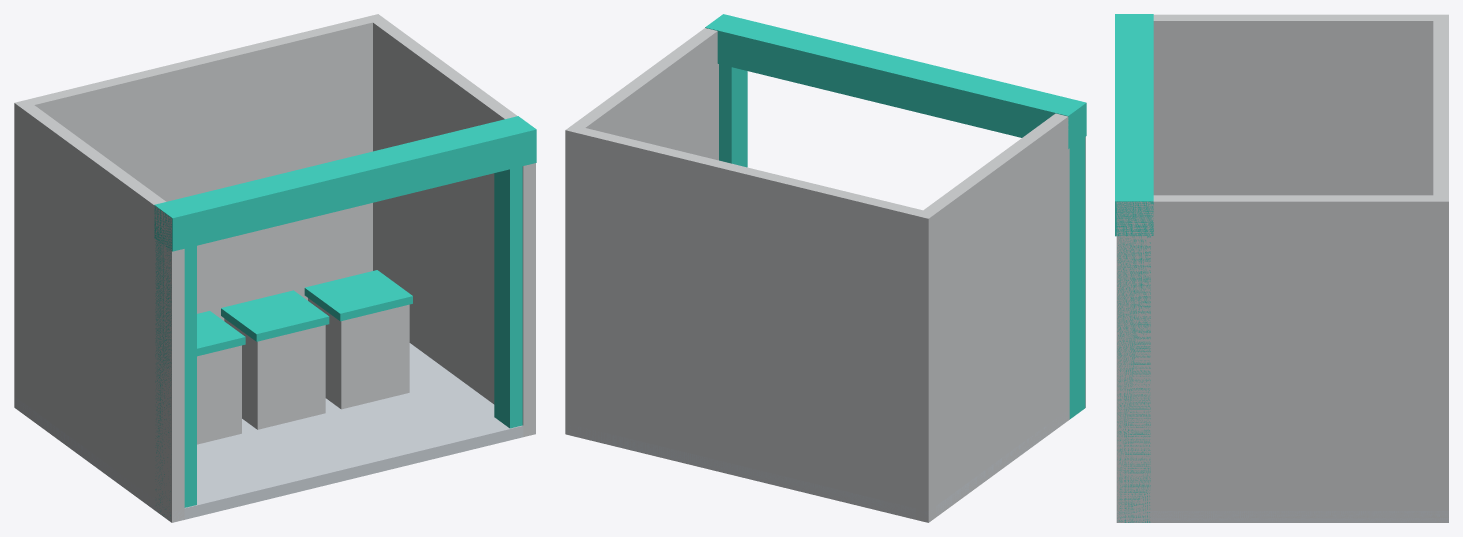
3 renders of one model, left to right at view 1: azimuth 30°, elevation 25°; view 2: azimuth 150°, elevation 25°; view 3: azimuth 270°, elevation 25°, orthographic. The views are drawn at different scales.
Visible parts, largest first — view 1: Exhibition Booth Concept; view 2: Exhibition Booth Concept; view 3: Exhibition Booth Concept.
Part boxes in pixels (box(x1,y1,x2,y2)): Exhibition Booth Concept: box(14, 14, 536, 522); Exhibition Booth Concept: box(565, 14, 1086, 522); Exhibition Booth Concept: box(1115, 14, 1448, 522).
Bounding box in the file's own units: 4 × 3.2 × 3.01.
